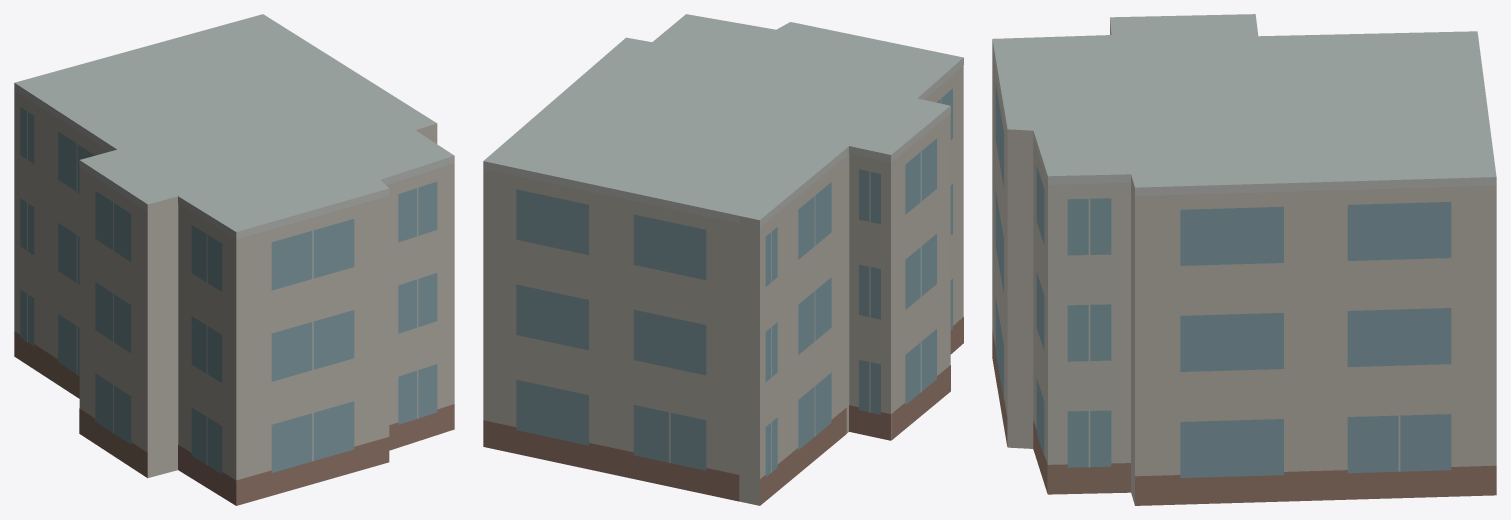
File: survey-upis-32570879.glb
The picture shows the model from 3 angles, left to right: view 1: azimuth 30°, elevation 25°; view 2: azimuth 150°, elevation 25°; view 3: azimuth 270°, elevation 25°; orthographic projection. The views are drawn at different scales.
Parts seen in each view (by area): view 1: survey-upis-32570879.tmp; view 2: survey-upis-32570879.tmp; view 3: survey-upis-32570879.tmp.
Boxes of the visible parts, bbox=[...] form: survey-upis-32570879.tmp: bbox=[14, 14, 454, 505]; survey-upis-32570879.tmp: bbox=[483, 14, 963, 505]; survey-upis-32570879.tmp: bbox=[992, 14, 1496, 505].
Bounding box in the file's own units: 10.71 × 9.15 × 13.15.
